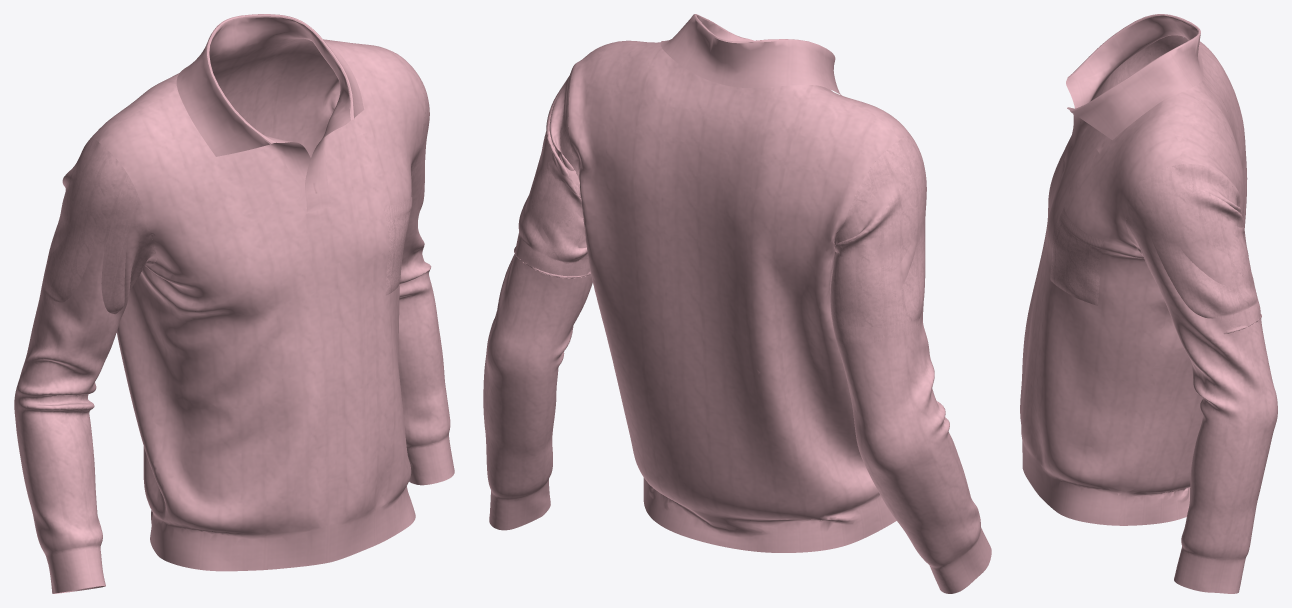
The model's file is jumper_mvp_v2.glb.
3 renders of one model, left to right at view 1: azimuth 30°, elevation 25°; view 2: azimuth 150°, elevation 25°; view 3: azimuth 270°, elevation 25°, orthographic. The views are drawn at different scales.
Parts seen in each view (by area): view 1: Body_Base, Sleeve_Long, Sleeve_Short, Pocket_Patch; view 2: Body_Base, Sleeve_Long, Sleeve_Short; view 3: Body_Base, Sleeve_Long, Sleeve_Short, Pocket_Patch.
Part boxes in pixels (left/top/right/bottom): Body_Base: left=90, top=14, right=425, bottom=571; Sleeve_Long: left=14, top=71, right=454, bottom=593; Sleeve_Short: left=41, top=73, right=429, bottom=329; Pocket_Patch: left=384, top=193, right=412, bottom=295; Body_Base: left=568, top=14, right=911, bottom=552; Sleeve_Long: left=483, top=66, right=991, bottom=593; Sleeve_Short: left=514, top=66, right=926, bottom=347; Body_Base: left=1020, top=14, right=1247, bottom=525; Sleeve_Long: left=1113, top=35, right=1277, bottom=593; Sleeve_Short: left=1114, top=35, right=1261, bottom=333; Pocket_Patch: left=1050, top=207, right=1103, bottom=305.
Size of the model in its own units: 60.06 by 67.49 by 33.43.
Materials: 4 (4 with a texture image).
